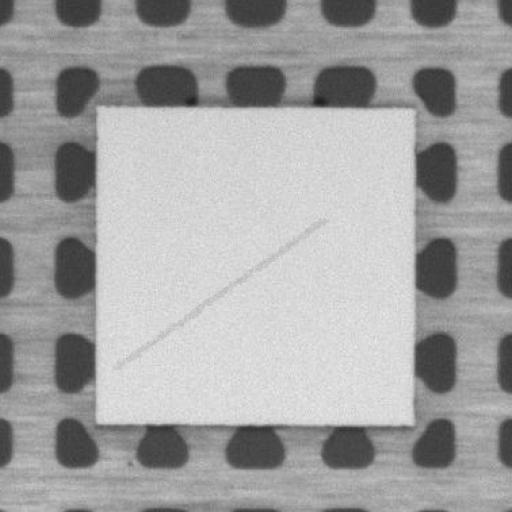DIE_CRACK: (113, 220, 323, 368)
